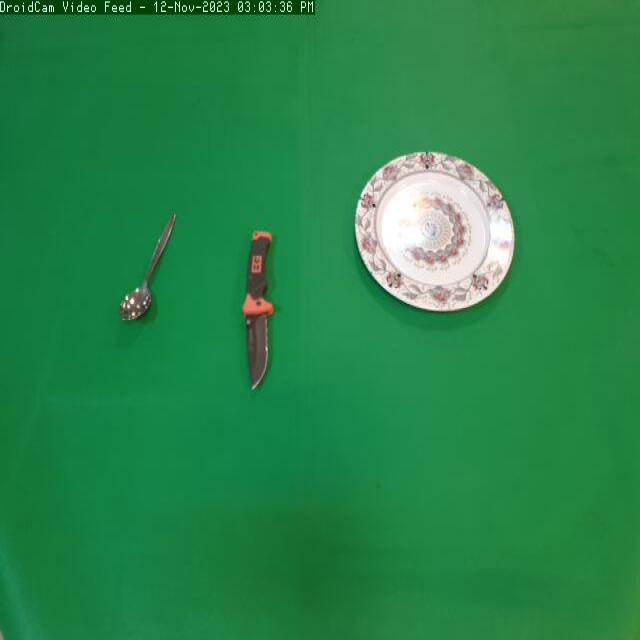knife: (236, 216, 288, 396)
plate: (346, 139, 522, 319)
spoon: (110, 200, 182, 334)
